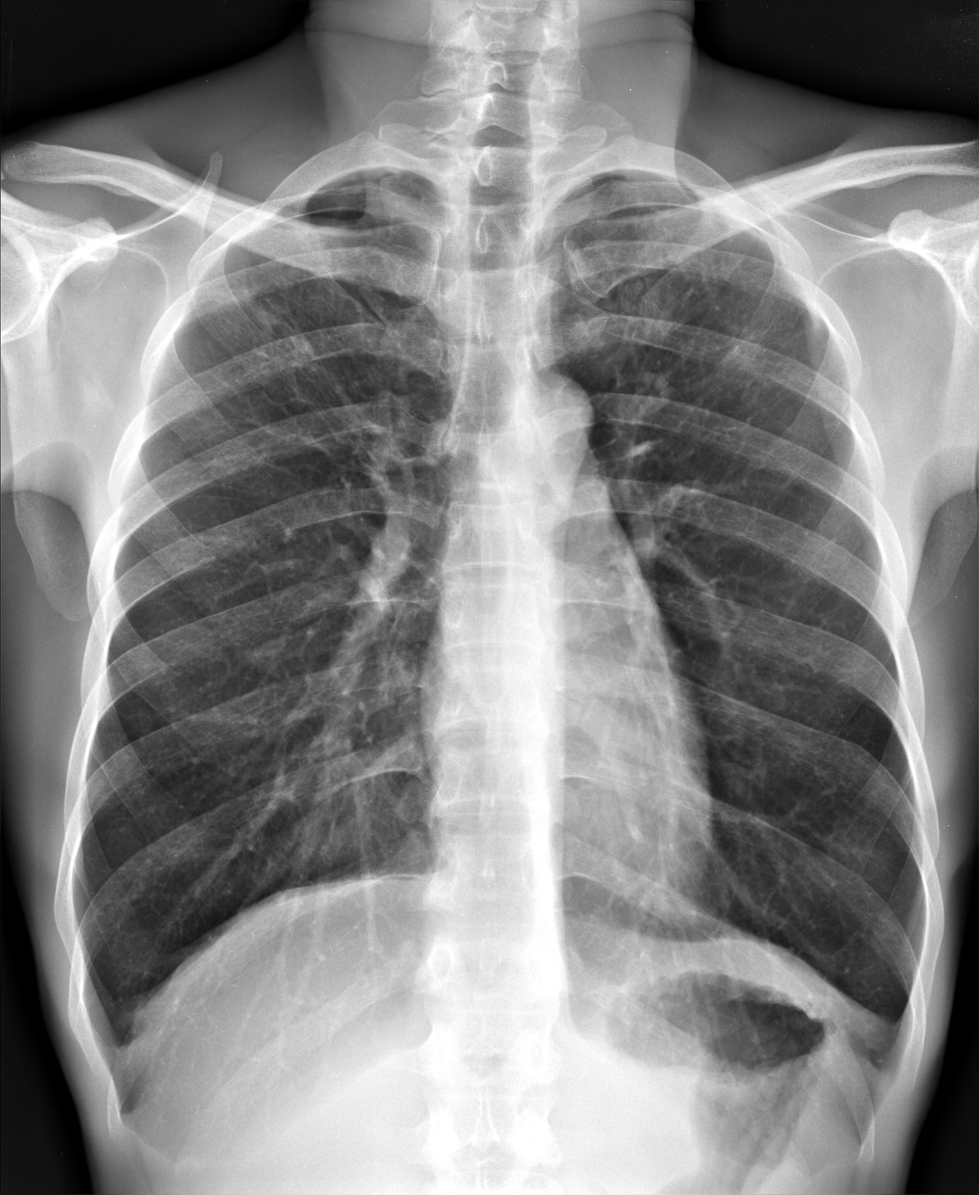Pleural thickening: (76, 972, 188, 1116), (828, 957, 923, 1119), (547, 162, 685, 210), (310, 164, 406, 194)
Pulmonary fibrosis: (210, 287, 320, 388), (712, 321, 771, 383)
